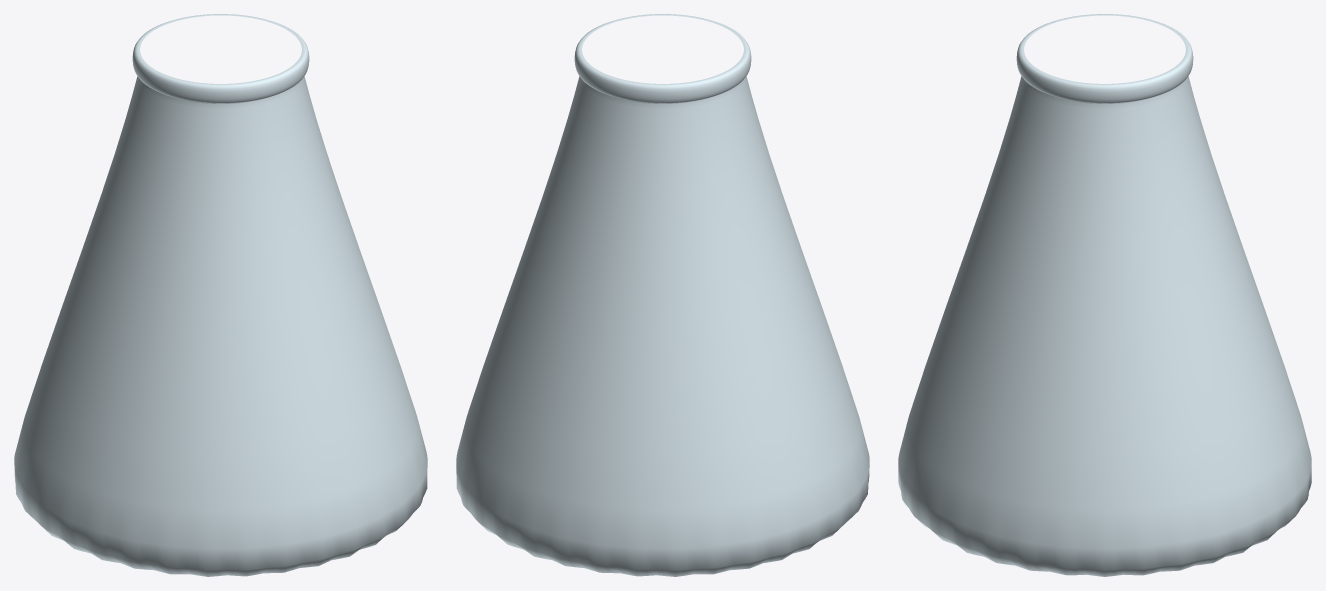
File: erlenmeyer.glb
The picture shows the model from 3 angles, left to right: view 1: azimuth 30°, elevation 25°; view 2: azimuth 150°, elevation 25°; view 3: azimuth 270°, elevation 25°; orthographic projection.
Parts seen in each view (by area): view 1: Fiole; view 2: Fiole; view 3: Fiole.
Part boxes in pixels (left/top/right/bottom): Fiole: left=14, top=14, right=427, bottom=576; Fiole: left=456, top=14, right=869, bottom=576; Fiole: left=898, top=14, right=1311, bottom=576.
Size of the model in its own units: 1.3 by 1.58 by 1.3.
